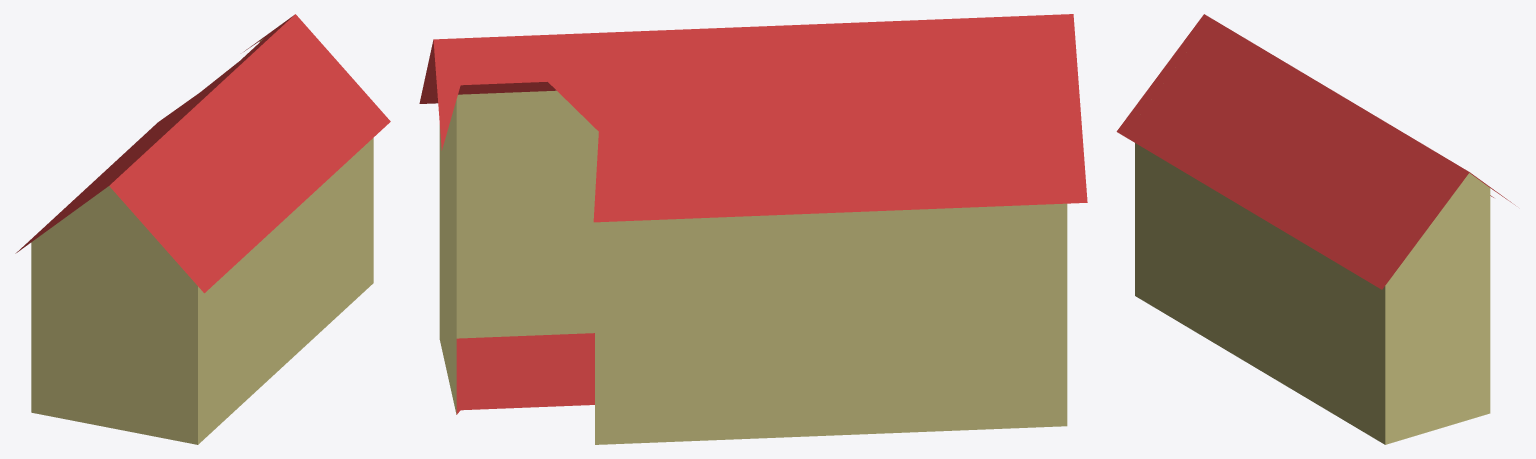
3 views of the same model, side by side, from view 1: azimuth 30°, elevation 25°; view 2: azimuth 150°, elevation 25°; view 3: azimuth 270°, elevation 25° (orthographic). The views are drawn at different scales.
Bounding box in the file's own units: 28.14 × 22.86 × 15.83.
